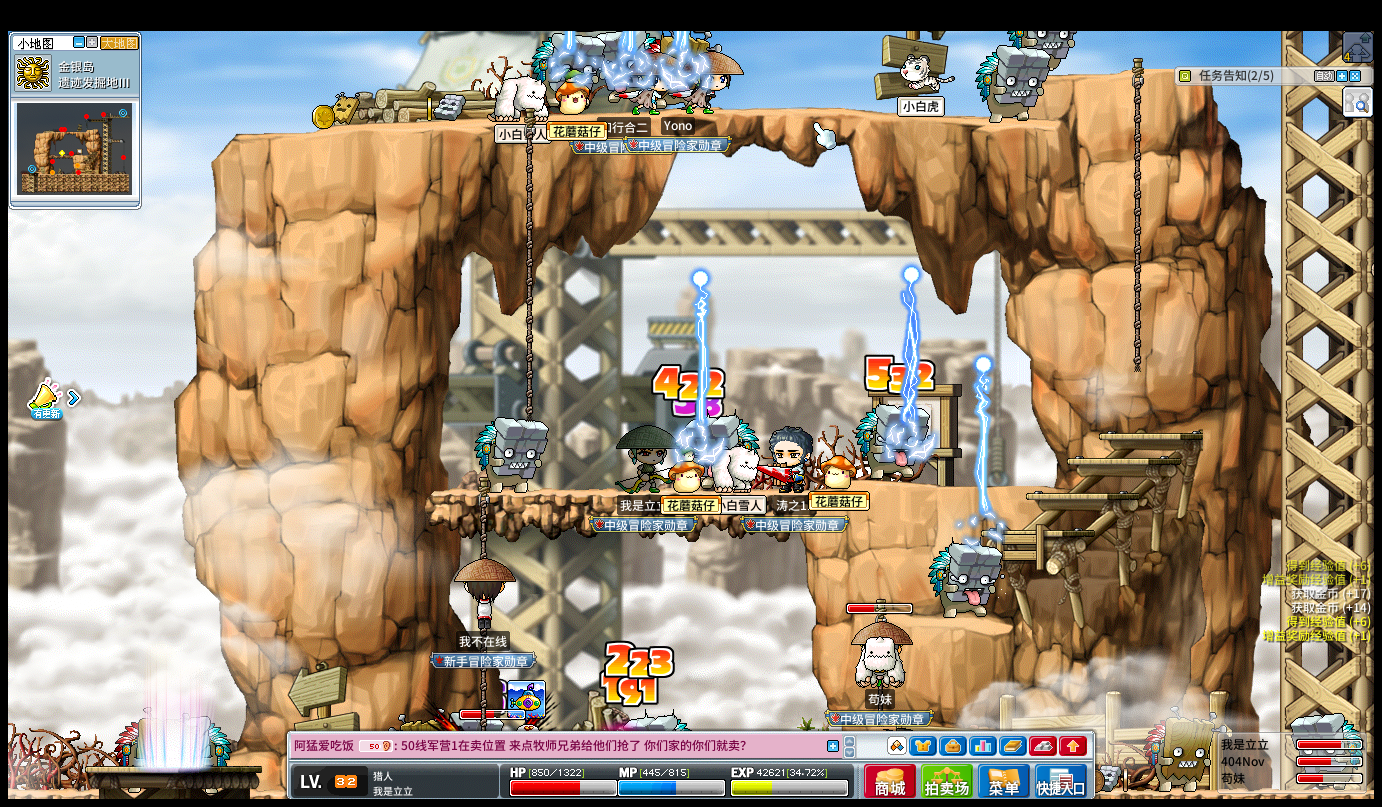floor: (228, 105, 1073, 138), (430, 488, 812, 501), (900, 613, 1015, 635), (874, 481, 1057, 491), (1051, 67, 1169, 80), (1097, 429, 1205, 442), (1062, 456, 1176, 464), (1026, 492, 1139, 500), (990, 528, 1092, 536)
monster: (1143, 709, 1231, 791), (856, 403, 933, 481), (473, 416, 550, 493), (976, 44, 1049, 122), (927, 543, 1001, 619), (532, 30, 579, 85)
rope: (1130, 55, 1144, 377), (522, 112, 534, 416), (474, 482, 489, 561)
